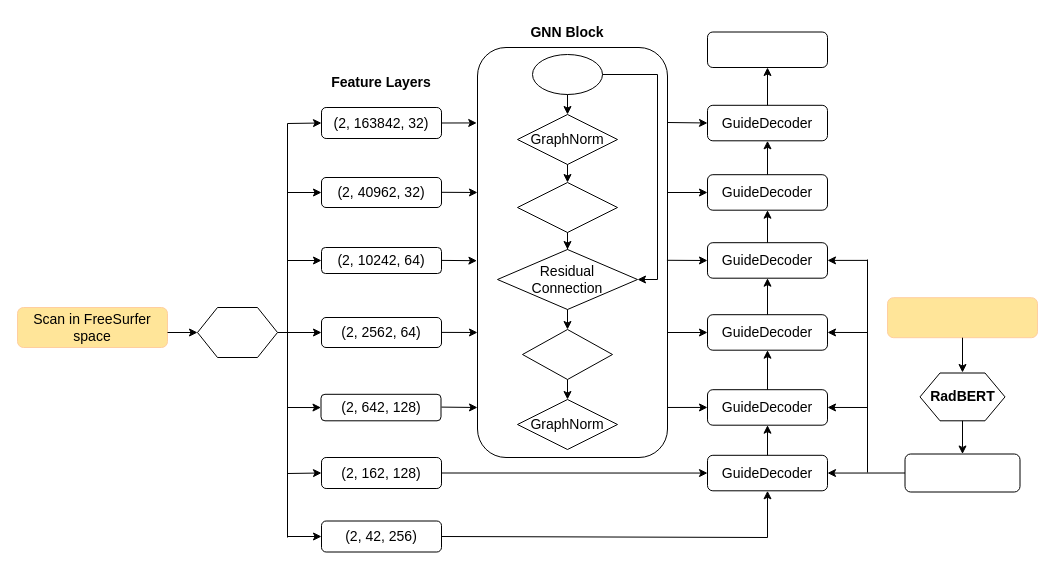
Some shapes in this 1055 by 569 pixel diagram are drawn without their labels. The shapes that lost their labels are listed below. From the top down, each one's box as (x1, y1, x2, y2) in pixels, then its label:
(706, 31, 828, 68): DecoderHead
(532, 54, 602, 94): Input
(516, 182, 618, 232): SAGEConv
(196, 306, 278, 358): MELD
(886, 297, 1038, 338): Atlas Description
(522, 328, 612, 380): RELU
(904, 453, 1020, 492): Take last Hidden Layer
